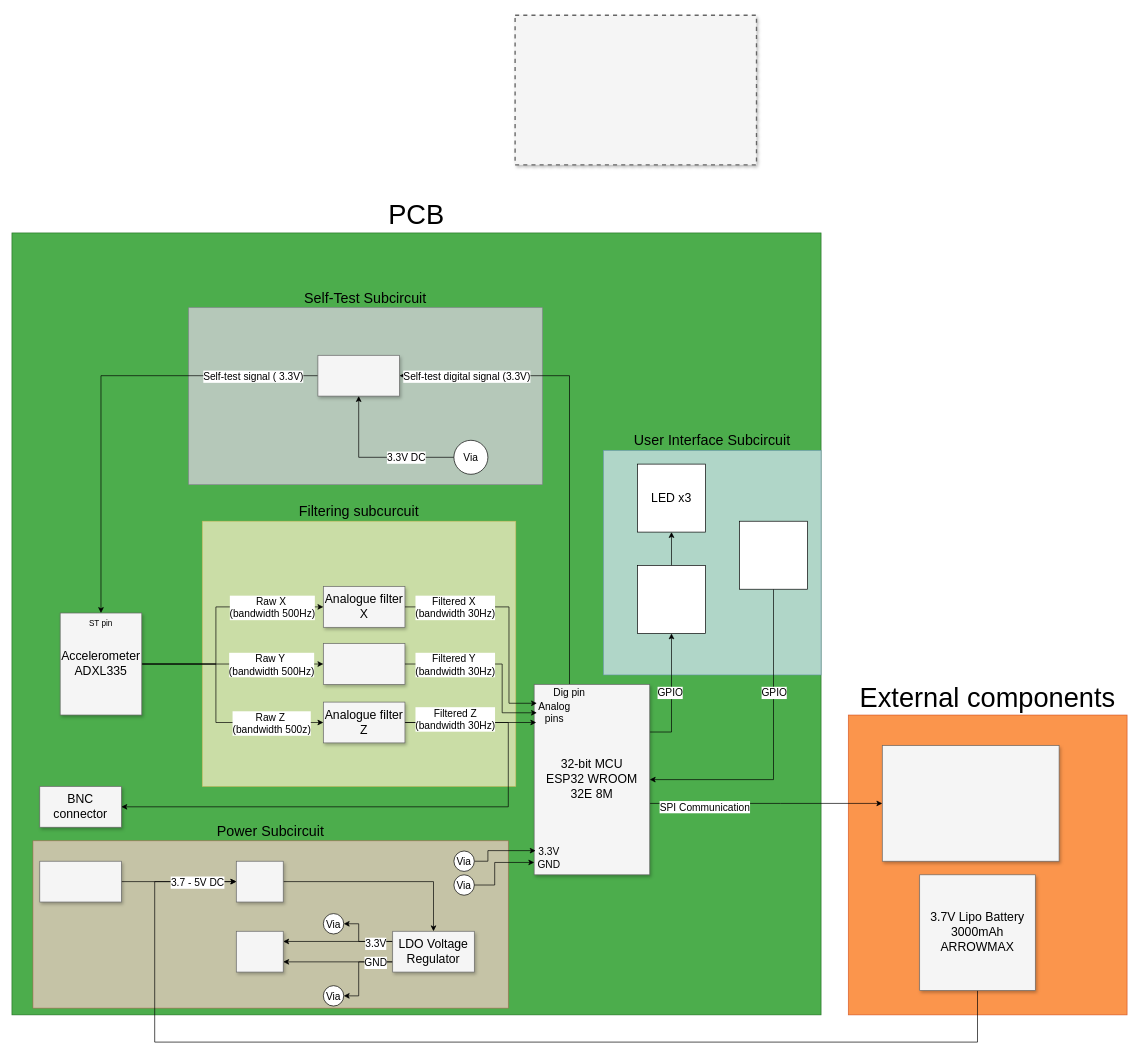
This 1139x1059 diagram has some shape labels left out. The shapes that lost their labels are listed below. From the top down, each one's centre as x and y in pixels, then its label:
pixel 636 91: GarMen StepTracker
pixel 359 376: HS switch (P-MOSFET)
pixel 773 555: Pushbutton x3
pixel 671 599: LED driver x3
pixel 364 664: Analogue filter Y
pixel 971 804: 1.69 Inch LCD display Waveshare
pixel 80 882: Power barrel connector
pixel 260 882: Power switch
pixel 260 952: Power LED
